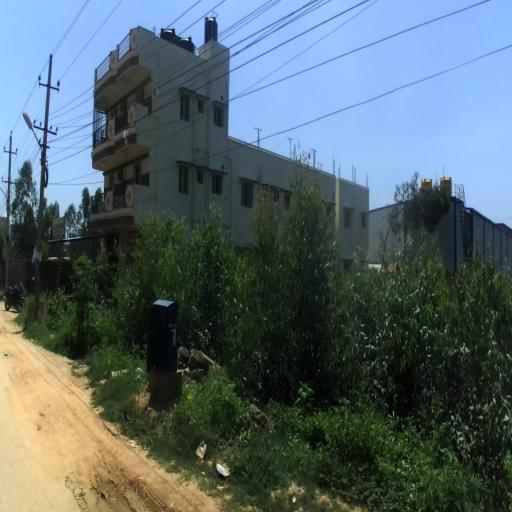street_light_0: (22, 109, 47, 167)
